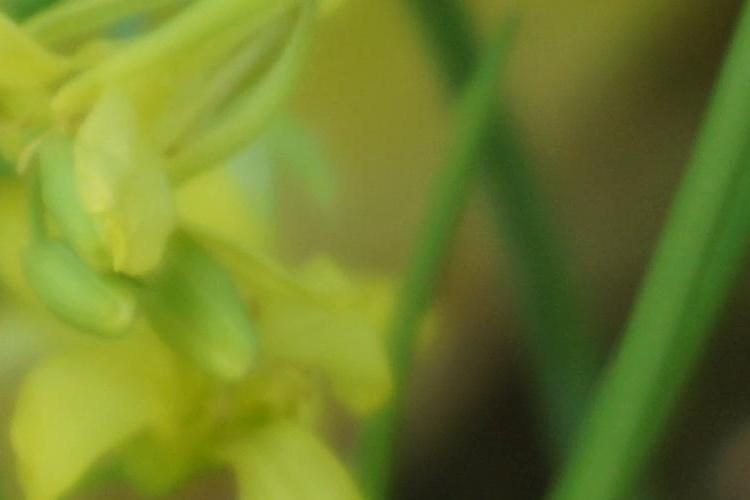bud: (138, 229, 257, 386), (22, 228, 148, 335)
yellow: (7, 3, 317, 246)
